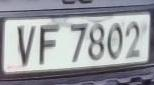0: (106, 18, 126, 67)
2: (124, 17, 144, 65)
7: (65, 21, 91, 68)
8: (86, 20, 108, 67)
F: (36, 22, 62, 69)
V: (14, 22, 38, 70)
